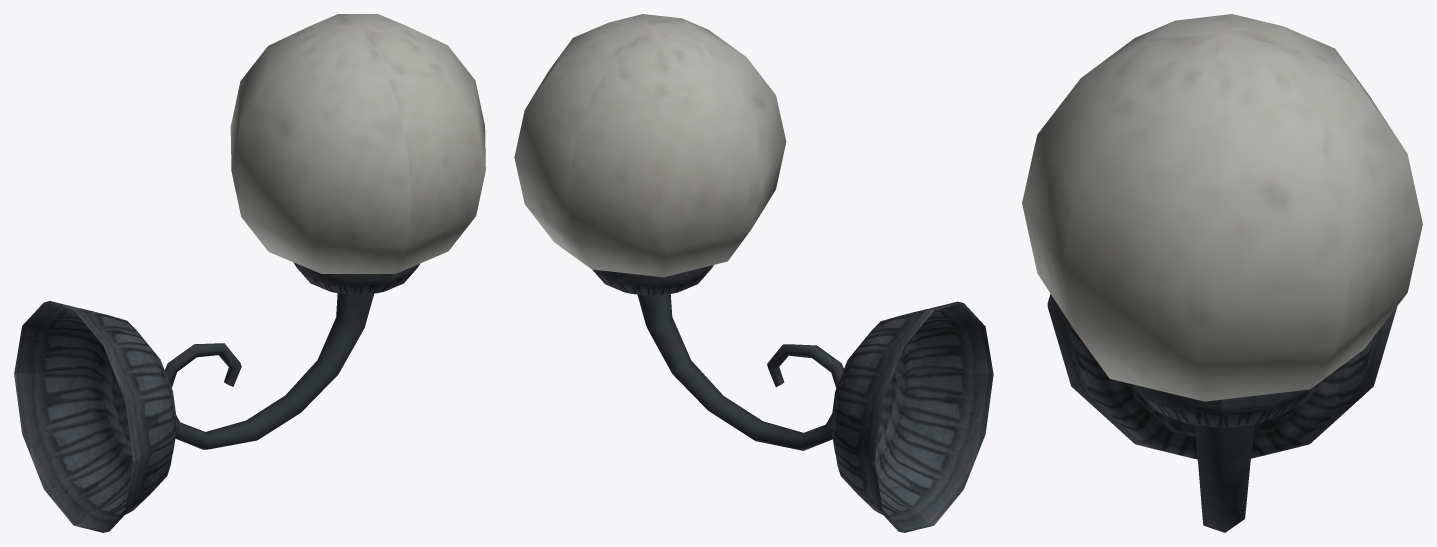
The model's file is lamp_01_wall_lamp.fbx.
The picture shows the model from 3 angles, left to right: view 1: azimuth 30°, elevation 25°; view 2: azimuth 150°, elevation 25°; view 3: azimuth 270°, elevation 25°; orthographic projection. The views are drawn at different scales.
Parts seen in each view (by area): view 1: lamp_01_wall_lamp; view 2: lamp_01_wall_lamp; view 3: lamp_01_wall_lamp.
Part boxes in pixels (x1,y1,x2,y2): lamp_01_wall_lamp: (14, 14, 485, 532); lamp_01_wall_lamp: (514, 14, 993, 532); lamp_01_wall_lamp: (1022, 14, 1422, 532).
Size of the model in its own units: 52.22 by 53.37 by 30.67.
